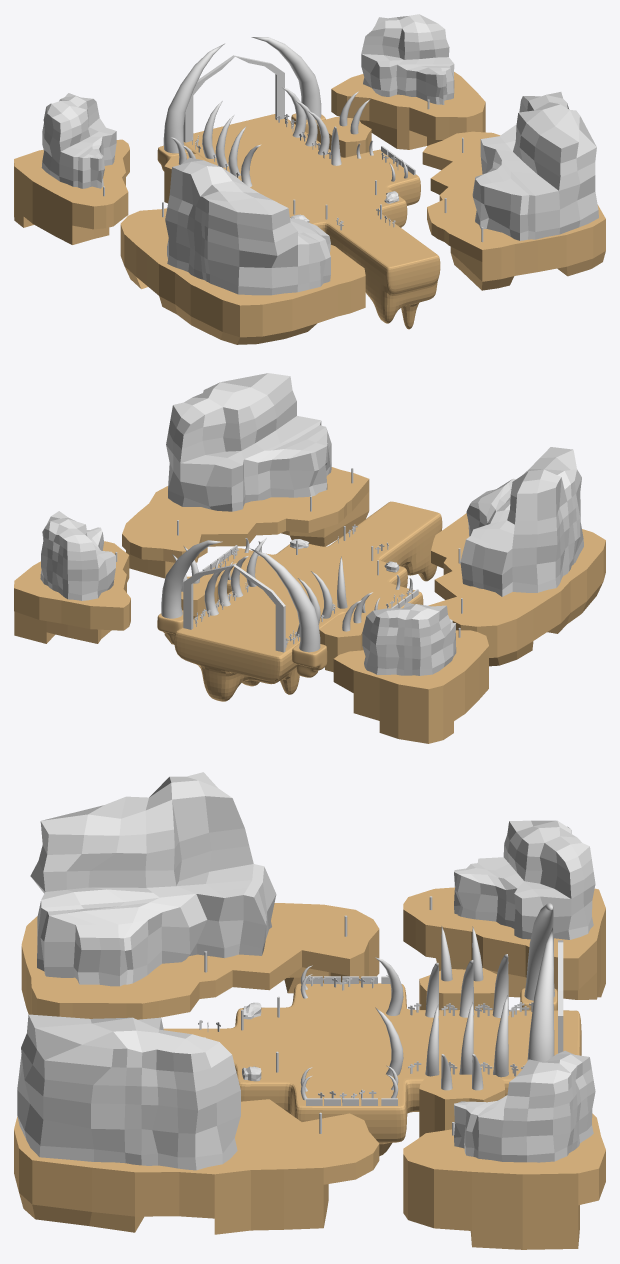
Rendered from Sala1.fbx.
3 views of the same model, one above another, from view 1: azimuth 30°, elevation 25°; view 2: azimuth 150°, elevation 25°; view 3: azimuth 270°, elevation 25° (orthographic). The views are drawn at different scales.
Visible parts, largest first — view 1: Base 4-1, Roca.058, Roca.059, Cube.188, Cube.187, Cube.190, Roca.057, Cube.189, Roca.056, Hueso Grande.047, Hueso Grande.045, ENTRADA 1.006 (+2 smaller); view 2: Base 4-1, Roca.059, Roca.058, Cube.187, Cube.188, Cube.190, Cube.189, Roca.056, Roca.057, Hueso Grande.047, ENTRADA 1.006, Tierra.001 (+3 smaller); view 3: Roca.058, Roca.059, Cube.187, Base 4-1, Cube.188, Cube.189, Roca.056, Roca.057, Cube.190, Tierra, Hueso Grande.045, Tierra.001 (+9 smaller).
Boxes of the visible parts, box(x1,y1,x2,y2) form: Base 4-1: box(183, 114, 440, 329); Roca.058: box(165, 157, 330, 295); Roca.059: box(472, 92, 598, 240); Cube.188: box(120, 208, 365, 344); Cube.187: box(422, 131, 605, 290); Cube.190: box(14, 139, 129, 244); Roca.057: box(361, 14, 454, 104); Cube.189: box(331, 72, 485, 149); Roca.056: box(41, 93, 116, 188); Hueso Grande.047: box(163, 43, 224, 153); Hueso Grande.045: box(251, 37, 321, 119); ENTRADA 1.006: box(183, 55, 284, 142); Base 4-1: box(174, 501, 442, 701); Roca.059: box(166, 373, 331, 511); Roca.058: box(460, 447, 583, 596); Cube.187: box(122, 467, 369, 578); Cube.188: box(428, 513, 605, 666); Cube.190: box(333, 630, 488, 743); Cube.189: box(14, 541, 130, 643); Roca.056: box(362, 602, 456, 675); Roca.057: box(40, 511, 115, 600); Hueso Grande.047: box(250, 548, 320, 652); ENTRADA 1.006: box(183, 564, 285, 652); Tierra.001: box(319, 612, 367, 672); Roca.058: box(30, 772, 276, 986); Roca.059: box(17, 1014, 240, 1170); Cube.187: box(14, 1099, 379, 1234); Base 4-1: box(163, 983, 581, 1156); Cube.188: box(21, 903, 379, 1019); Cube.189: box(403, 1113, 605, 1249); Roca.056: box(454, 820, 595, 939); Roca.057: box(454, 1050, 595, 1162); Cube.190: box(403, 887, 605, 999); Tierra: box(419, 1074, 504, 1137); Hueso Grande.045: box(527, 927, 554, 1061); Tierra.001: box(419, 968, 496, 1010).
Bounding box in the file's own units: 23019 × 26765 × 11045.
